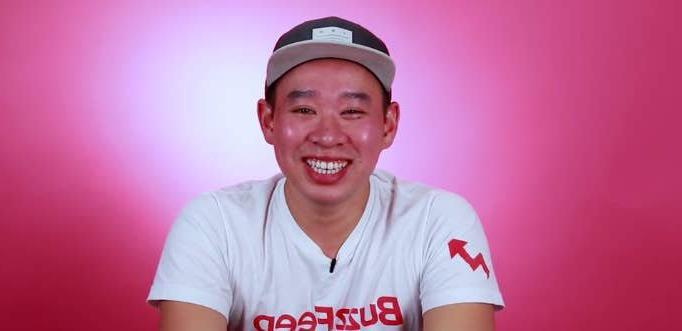Drunk: (282, 70, 377, 204)
